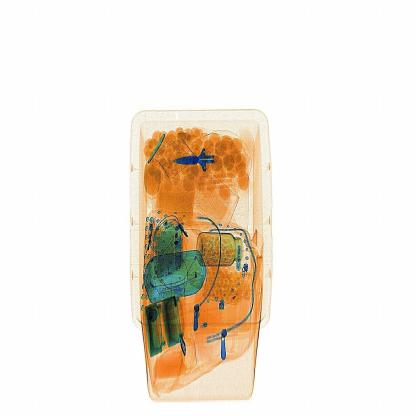gun: (175, 142, 231, 182)
